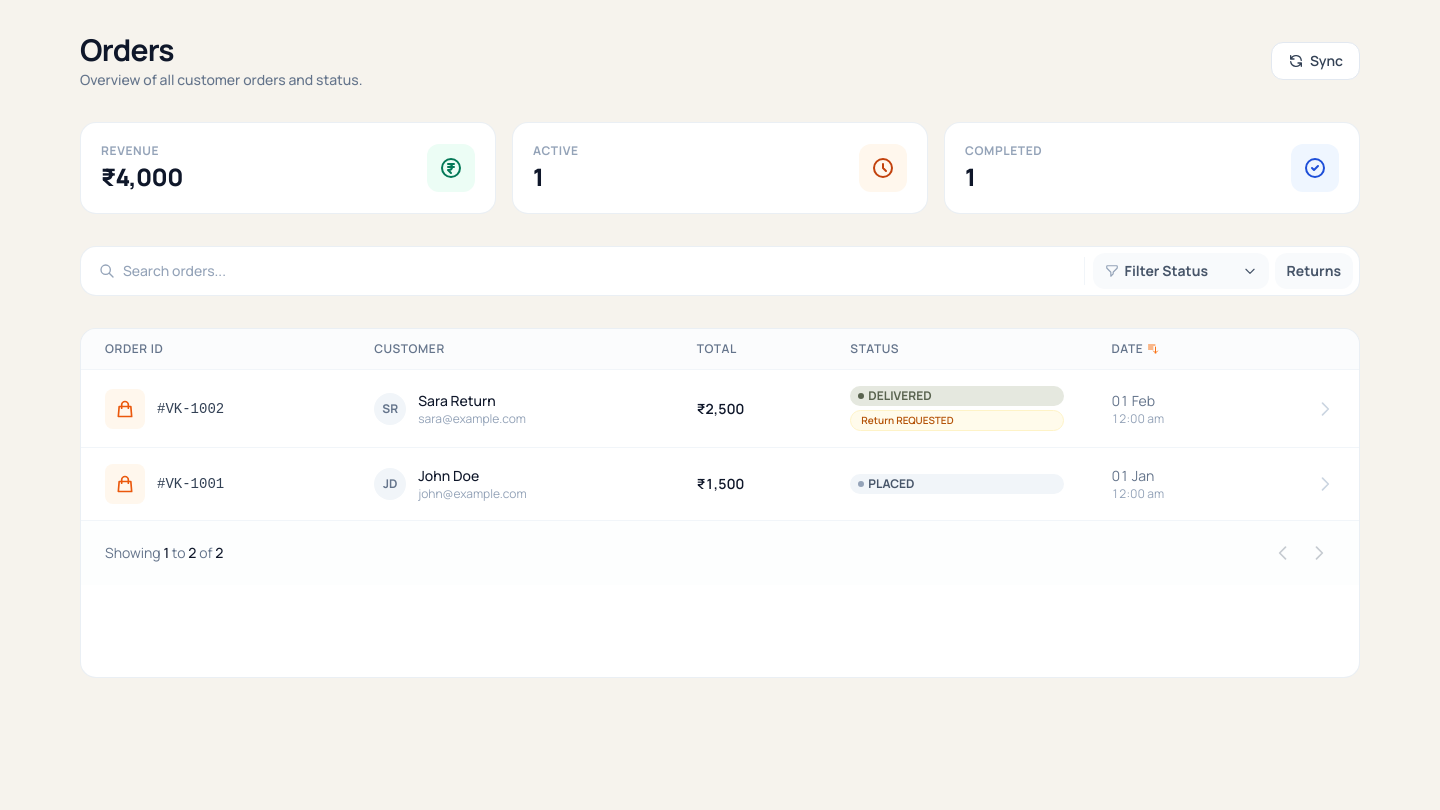
Test: AdminOrders Component › filters orders by search term
The image size is (1440, 810).
Step 1. Type "sara" into the field with placeholder "Search orders..." → (581, 271), box [87, 253, 1076, 289]
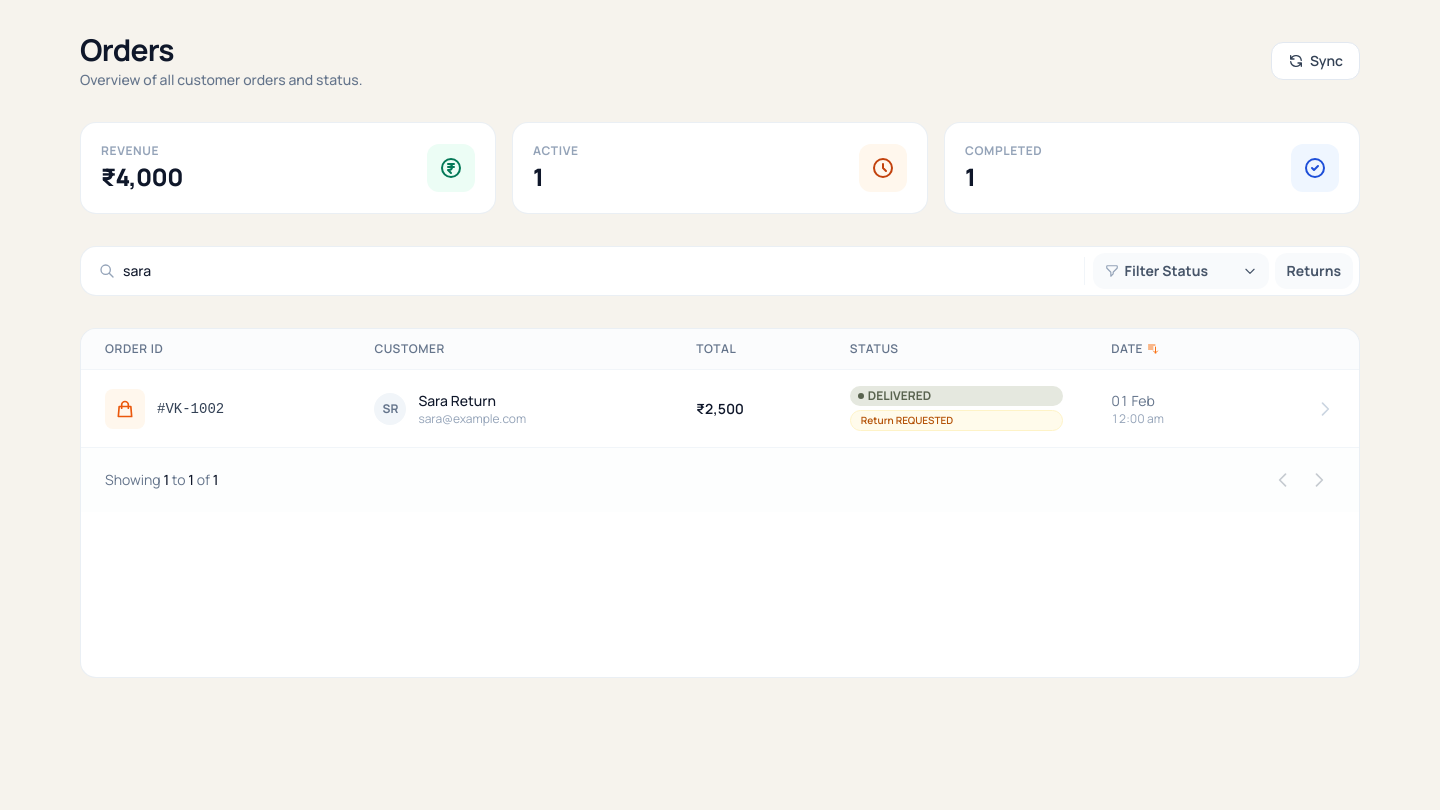
Expected: the text "Sara Return" is shown, [418, 390, 496, 410]
Expected: the text "John Doe" is gone
